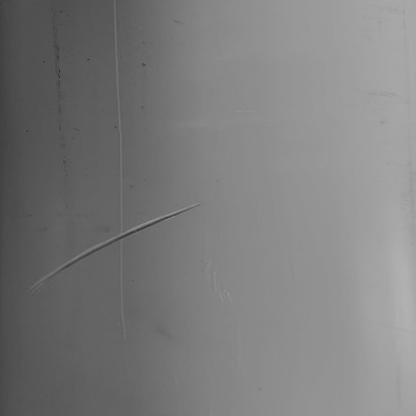sunshang: (25, 203, 198, 289)
